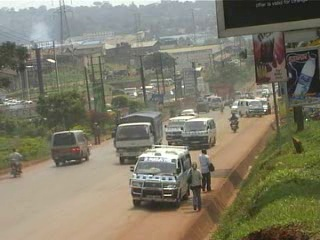Car: (228, 97, 240, 118), (180, 107, 200, 119), (196, 103, 210, 115)
Motorcycle: (8, 157, 24, 180), (227, 118, 239, 133)
